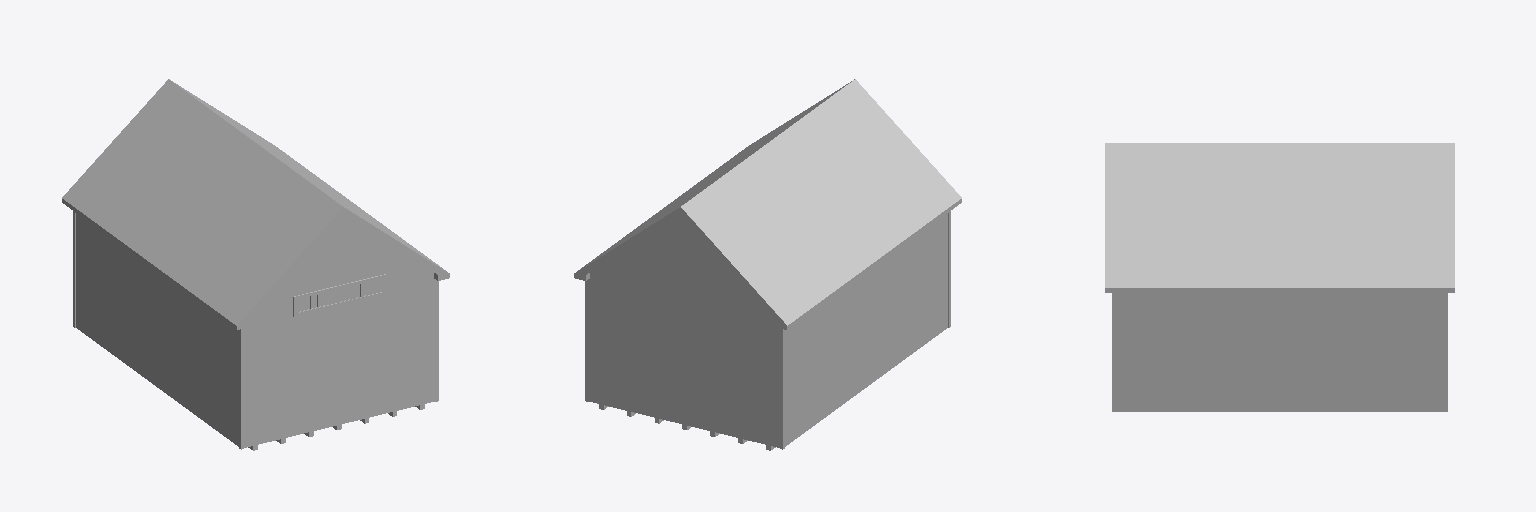
Rendered from Elite Garage_14x20.obj.
3 renders of one model, left to right at view 1: azimuth 30°, elevation 25°; view 2: azimuth 150°, elevation 25°; view 3: azimuth 270°, elevation 25°, orthographic.
Parts seen in each view (by area): view 1: Elite Garage_14x20.obj; view 2: Elite Garage_14x20.obj; view 3: Elite Garage_14x20.obj.
Part boxes in pixels (bbox=[...]): Elite Garage_14x20.obj: bbox=[62, 79, 449, 450]; Elite Garage_14x20.obj: bbox=[574, 79, 961, 450]; Elite Garage_14x20.obj: bbox=[1105, 143, 1454, 411].
Bounding box in the file's own units: 4.52 × 4.57 × 6.4.